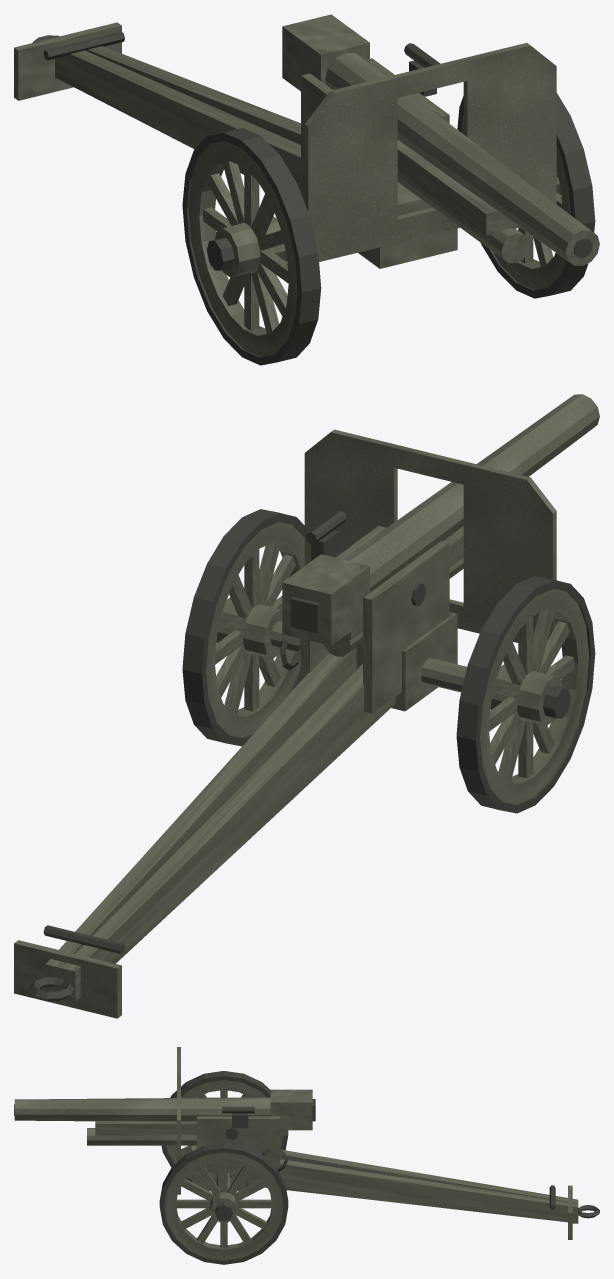
The model's file is artillery.glb.
3 views of the same model, one above another, from view 1: azimuth 30°, elevation 25°; view 2: azimuth 150°, elevation 25°; view 3: azimuth 270°, elevation 25° (orthographic). The views are drawn at different scales.
Parts seen in each view (by area): view 1: bouclier, tube, longeron_right, bandage_right, jante_right, rayons_right, bandage_left, culasse, longeron_left, berceau, beche, corps (+8 smaller); view 2: bouclier, longeron_right, longeron_left, tube, flasques, bandage_right, jante_right, rayons_right, bandage_left, rayons_left, jante_left, culasse (+8 smaller); view 3: longeron_left, tube, jante_left, rayons_left, flasques, bandage_left, longeron_right, culasse, berceau, recuperateur, bandage_right, jante_right (+4 smaller).
Boxes of the visible parts, x1,y1,x2,y2 form: bouclier: (304,43,556,261); tube: (325,53,599,265); longeron_right: (55,43,304,202); bandage_right: (182,128,321,365); jante_right: (188,141,297,356); rayons_right: (203,161,288,333); bandage_left: (457,93,595,298); culasse: (282,14,369,91); longeron_left: (71,39,300,144); berceau: (397,140,519,235); beche: (14,22,121,100); corps: (358,182,457,268); bouclier: (304,429,556,642); longeron_right: (61,664,395,1000); longeron_left: (45,647,356,991); tube: (343,394,599,592); flasques: (301,526,449,713); bandage_right: (456,576,595,813); jante_right: (480,589,588,804); rayons_right: (489,609,574,781); bandage_left: (182,509,304,746); rayons_left: (215,542,295,714); jante_left: (206,522,304,737); culasse: (282,554,369,645); longeron_left: (248,1159,578,1223); tube: (14,1097,270,1121); jante_left: (164,1152,283,1260); rayons_left: (176,1162,272,1248); flasques: (196,1116,280,1179); bandage_left: (159,1143,288,1264); longeron_right: (280,1149,578,1203); culasse: (270,1089,312,1130); berceau: (95,1121,288,1135); recuperateur: (87,1128,196,1145); bandage_right: (161,1071,287,1181); jante_right: (166,1080,283,1178).
Size of the model in its own units: 0.8873 by 0.6927 by 2.4.
Materials: 2 (1 with a texture image).
